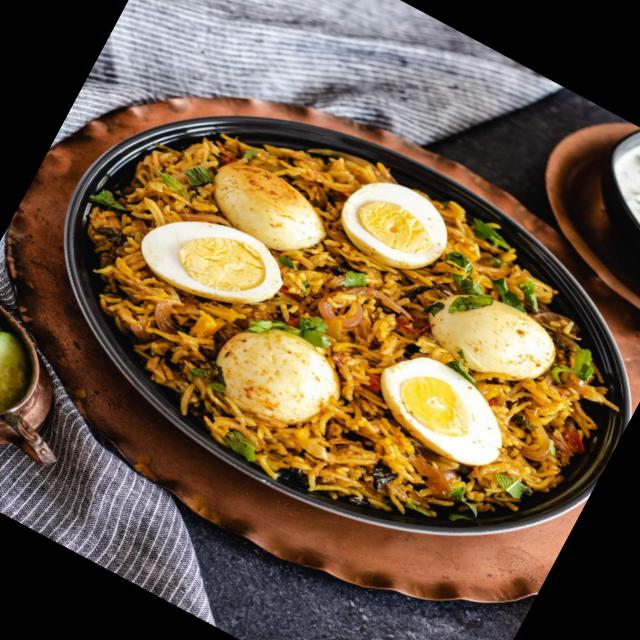Biryani: (11, 46, 640, 609)
